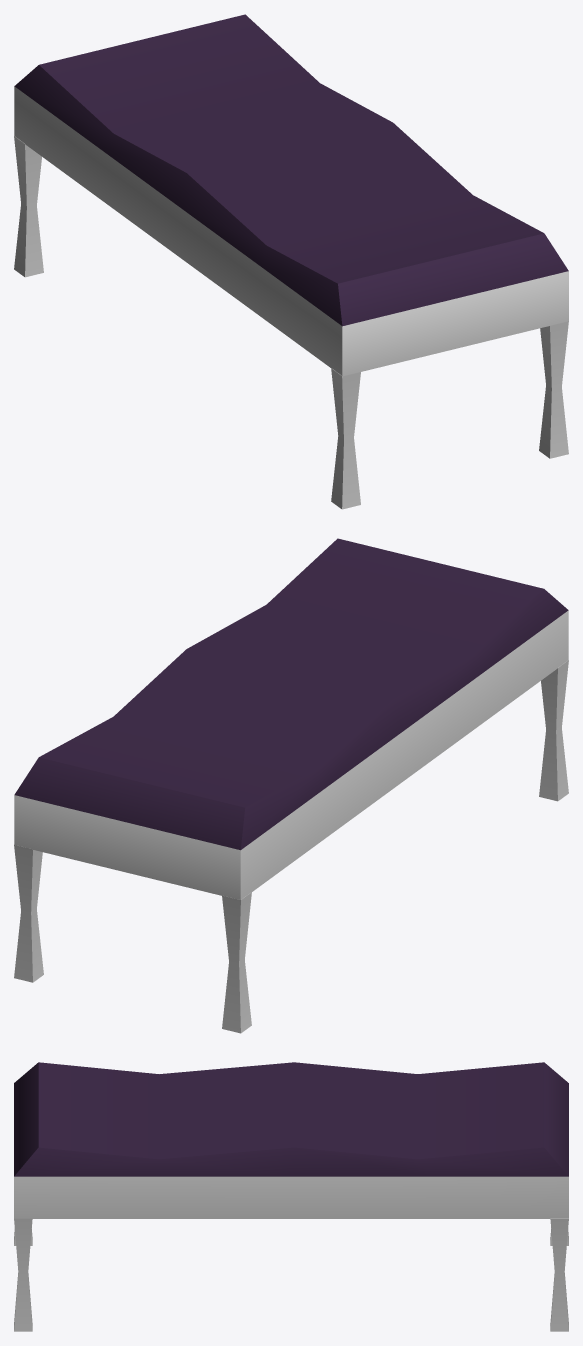
File: Bench.fbx
The picture shows the model from 3 angles, top to bottom: view 1: azimuth 30°, elevation 25°; view 2: azimuth 150°, elevation 25°; view 3: azimuth 270°, elevation 25°; orthographic projection. The views are drawn at different scales.
Visible parts, largest first — view 1: pCube1, pCube3, pCube2, pCube4; view 2: pCube1, pCube4, pCube5, pCube3; view 3: pCube1, pCube2, pCube5.
Boxes of the visible parts, bbox=[...] form: pCube1: bbox=[14, 14, 568, 376]; pCube3: bbox=[331, 368, 360, 509]; pCube2: bbox=[539, 321, 568, 458]; pCube4: bbox=[14, 136, 43, 277]; pCube1: bbox=[14, 538, 568, 899]; pCube4: bbox=[222, 892, 251, 1033]; pCube5: bbox=[14, 845, 43, 982]; pCube3: bbox=[539, 660, 568, 801]; pCube1: bbox=[14, 1062, 568, 1218]; pCube2: bbox=[14, 1218, 32, 1331]; pCube5: bbox=[550, 1218, 568, 1331].
Size of the model in its own units: 3.27 by 2.93 by 8.2.
